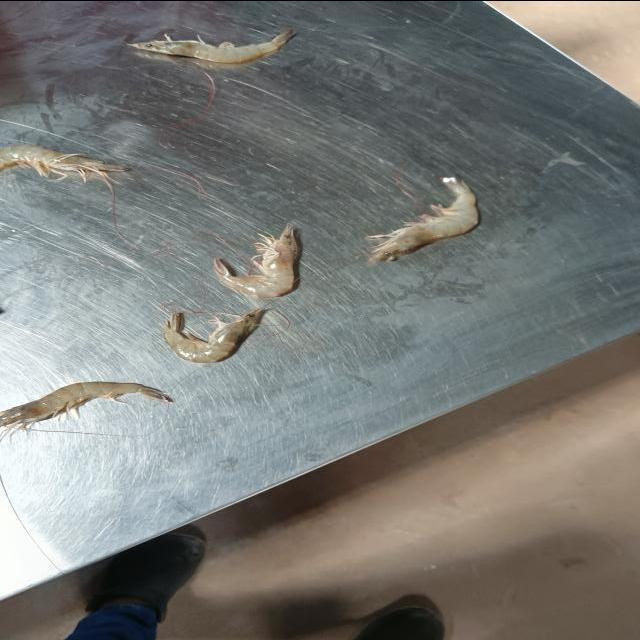shrimp: (367, 176, 478, 262), (0, 381, 173, 431), (215, 225, 299, 298), (164, 308, 266, 362), (128, 29, 294, 62), (0, 144, 128, 181)
